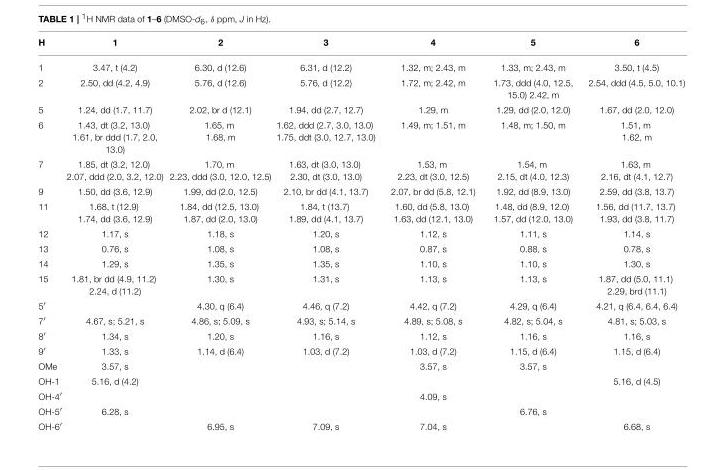table: (37, 37, 684, 430)
table column: (272, 37, 382, 430), (165, 37, 272, 430), (579, 37, 684, 430), (63, 37, 165, 430), (382, 37, 483, 430), (483, 37, 579, 430), (37, 37, 63, 430)
table column header: (37, 37, 684, 54)
table row: (37, 117, 684, 156), (37, 198, 684, 226), (37, 75, 684, 102), (37, 156, 684, 183), (37, 271, 684, 297), (37, 54, 684, 75), (37, 37, 684, 54), (37, 342, 684, 358), (37, 102, 684, 117), (37, 183, 684, 198), (37, 226, 684, 241), (37, 241, 684, 256), (37, 256, 684, 271), (37, 297, 684, 312), (37, 312, 684, 327), (37, 327, 684, 342), (37, 358, 684, 373), (37, 373, 684, 388), (37, 388, 684, 403), (37, 403, 684, 418), (37, 418, 684, 430)
